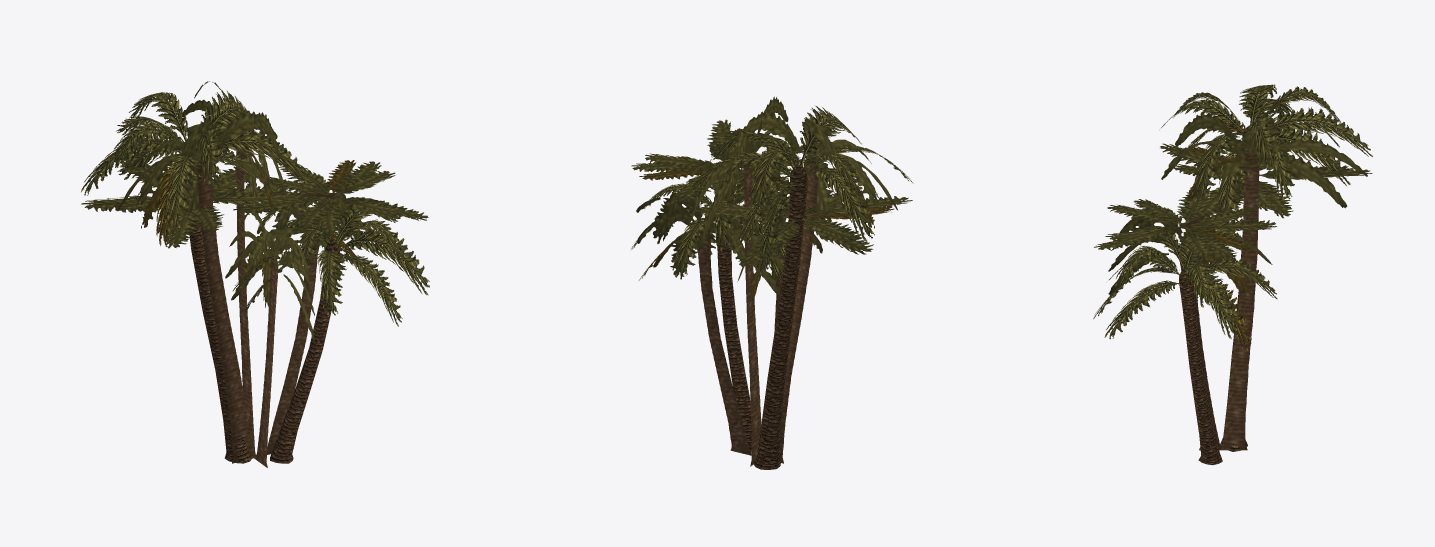
Rendered from Palmeira_04_Gemeas.glb.
The picture shows the model from 3 angles, left to right: view 1: azimuth 30°, elevation 25°; view 2: azimuth 150°, elevation 25°; view 3: azimuth 270°, elevation 25°; orthographic projection. The views are drawn at different scales.
Visible parts, largest first — view 1: Palmeira_04_Gemeas impostor, Folhas abertas 1, Folhas novas 1, Folhas abertas 2, Caule 2, Caule 1, Folhas novas 2, Folhas inferiores 1, Folhas inferiores 2; view 2: Palmeira_04_Gemeas impostor, Caule 1, Folhas abertas 1, Folhas novas 1, Caule 2, Folhas inferiores 1, Folhas abertas 2, Folhas novas 2; view 3: Palmeira_04_Gemeas impostor, Folhas abertas 1, Folhas abertas 2, Folhas novas 1, Caule 2, Folhas novas 2, Folhas inferiores 1, Folhas inferiores 2.
Boxes of the visible parts, <box> form: Palmeira_04_Gemeas impostor: <box>81,81,428,467</box>; Folhas abertas 1: <box>81,115,307,232</box>; Folhas novas 1: <box>112,89,247,184</box>; Folhas abertas 2: <box>232,217,429,316</box>; Caule 2: <box>270,258,339,463</box>; Caule 1: <box>185,187,251,463</box>; Folhas novas 2: <box>258,205,404,269</box>; Folhas inferiores 1: <box>117,141,287,246</box>; Folhas inferiores 2: <box>242,234,402,326</box>; Palmeira_04_Gemeas impostor: <box>631,96,912,466</box>; Caule 1: <box>753,188,807,469</box>; Folhas abertas 1: <box>689,135,913,248</box>; Folhas novas 1: <box>711,105,861,209</box>; Caule 2: <box>717,234,751,452</box>; Folhas inferiores 1: <box>729,166,891,275</box>; Folhas abertas 2: <box>630,185,785,277</box>; Folhas novas 2: <box>644,162,788,252</box>; Palmeira_04_Gemeas impostor: <box>1094,112,1372,450</box>; Folhas abertas 1: <box>1161,98,1372,202</box>; Folhas abertas 2: <box>1093,239,1277,338</box>; Folhas novas 1: <box>1173,84,1345,167</box>; Caule 2: <box>1179,284,1222,464</box>; Folhas novas 2: <box>1115,225,1255,307</box>; Folhas inferiores 1: <box>1188,118,1350,222</box>; Folhas inferiores 2: <box>1104,260,1251,351</box>.
Size of what is drawn, in the model's own units: 10.85 by 10.85 by 10.85.
Materials: 3 (3 with a texture image).
